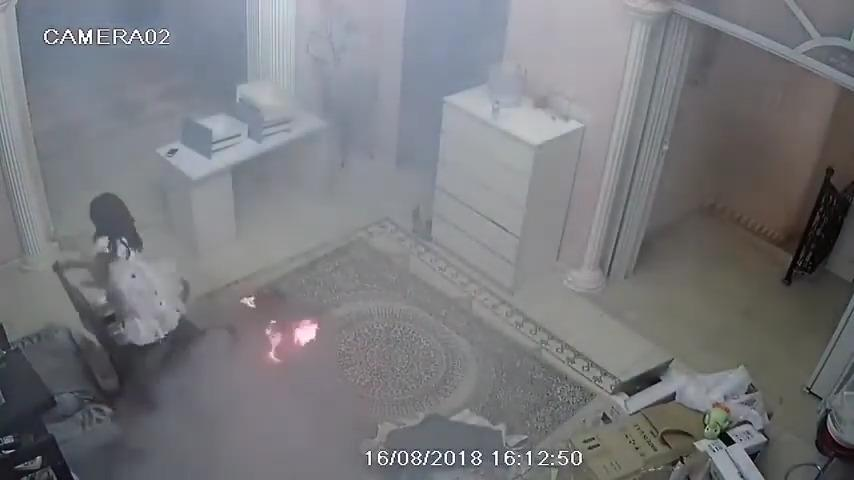fire: (266, 320, 317, 363)
